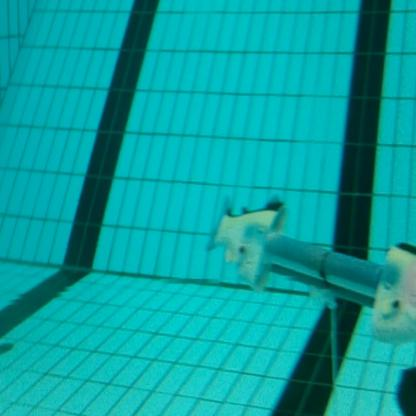tail: (206, 192, 290, 297)
